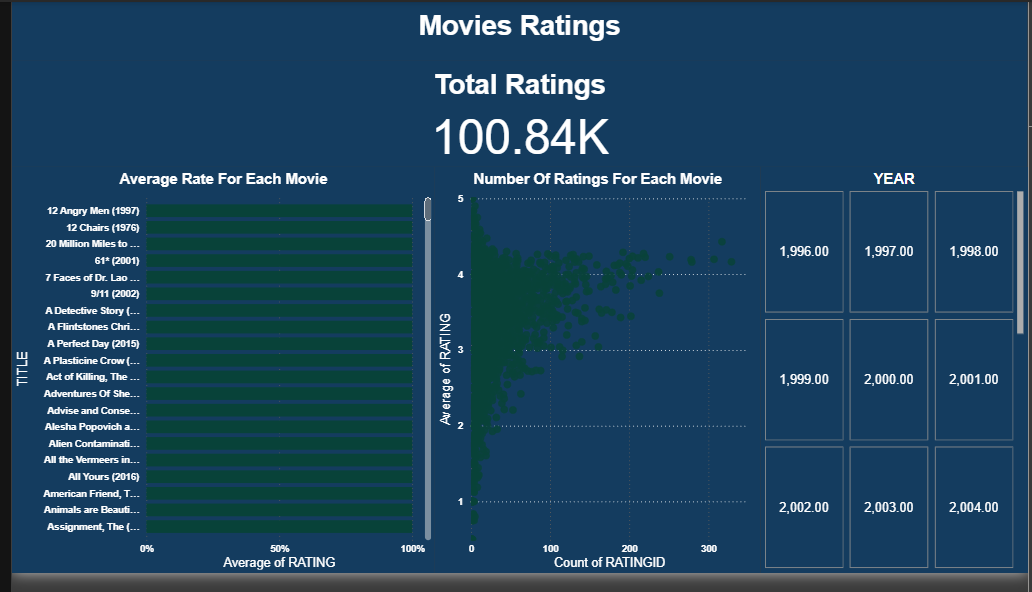

The dashboard page shown, as its layout file describes it:
{"tool":"powerbi","page":{"name":"Page 1","canvas":[1280,720],"ordinal":0},"visuals":[{"type":"card","title":"Total Ratings","fields":{"Values":["FACT_RATINGS.RATINGID"]},"box":[0,73.7,1279.4,134.2],"z":0},{"type":"textbox","title":"Movies Ratings","box":[0,0,1279.4,73.7],"z":1000},{"type":"hundredPercentStackedBarChart","title":"Average Rate For Each Movie","fields":{"Category":["DIM_MOVIES.TITLE"],"Y":["FACT_RATINGS.RATING"]},"box":[0,207.9,532.9,512.1],"z":2000},{"type":"advancedSlicerVisual","fields":{"Values":["DIM_DATE.YEAR"]},"box":[943,207.9,336.4,512.1],"z":3000},{"type":"scatterChart","title":"Number Of Ratings For Each Movie","fields":{"X":["FACT_RATINGS.RATINGID"],"Category":["DIM_MOVIES.TITLE"],"Y":["FACT_RATINGS.RATING"]},"box":[532.9,207.9,410.1,512.1],"z":4000}]}

Visuals, with their boxes in screenshot pixels (x1, y1, x2, y2), scaled from the page's 1280x720 canvas onto the 1032x592 screenshot:
"Total Ratings" card: rect(0, 61, 1031, 171)
"Movies Ratings" textbox: rect(0, 0, 1031, 61)
"Average Rate For Each Movie" hundredPercentStackedBarChart: rect(0, 171, 430, 591)
advancedSlicerVisual - DIM_DATE.YEAR: rect(760, 171, 1031, 591)
"Number Of Ratings For Each Movie" scatterChart: rect(430, 171, 760, 591)
